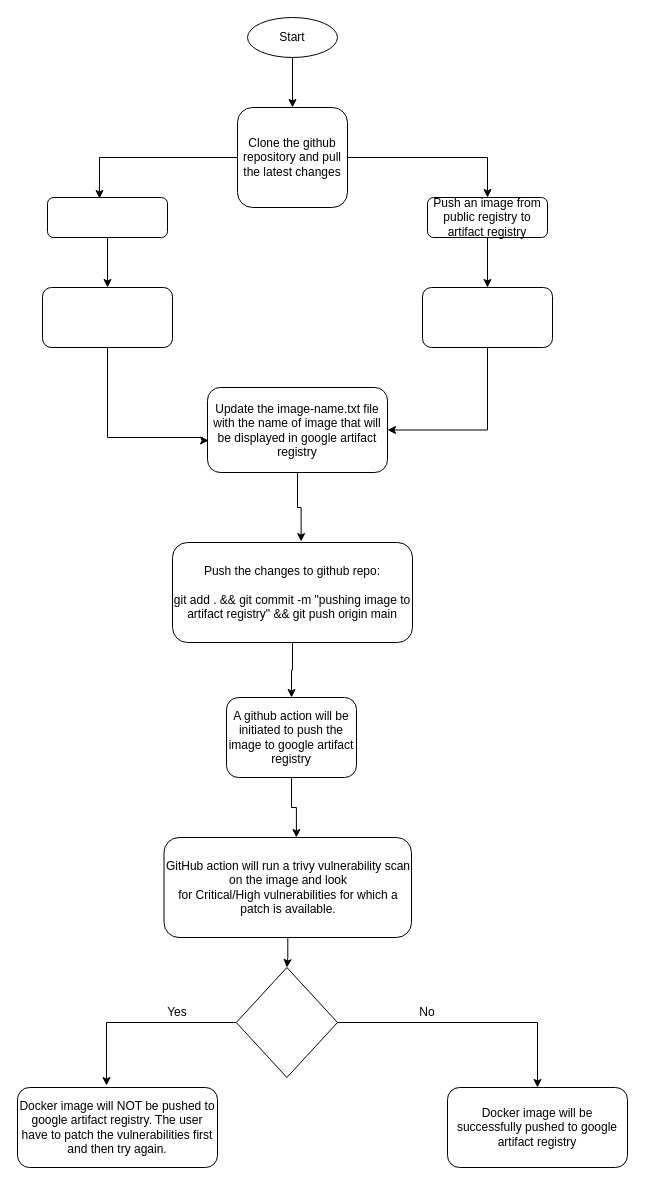
This 645x1185 diagram has some shape labels left out. Here are the shapes that lost their labels. From the top down, the centre of each, then its label:
the point at 107,217: Push your own base image to artifact registry
the point at 107,317: Replace the Dockerfile in the cloned repository with your own Dockerfile
the point at 487,317: Replace the url after FROM in the Dockerfile with the url of your base image
the point at 286,1022: Critical/High Vulnerability found?
